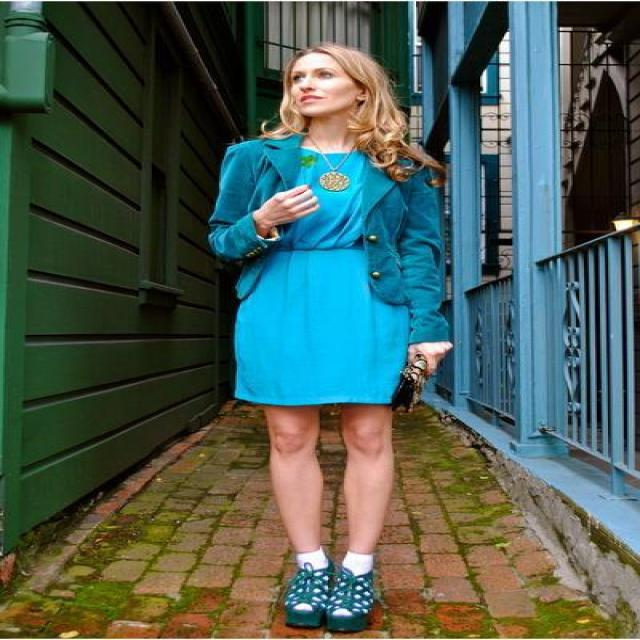bag: (371, 348, 443, 410)
dress: (234, 150, 402, 404)
jacket: (208, 134, 453, 365)
shoe: (282, 560, 376, 634)
